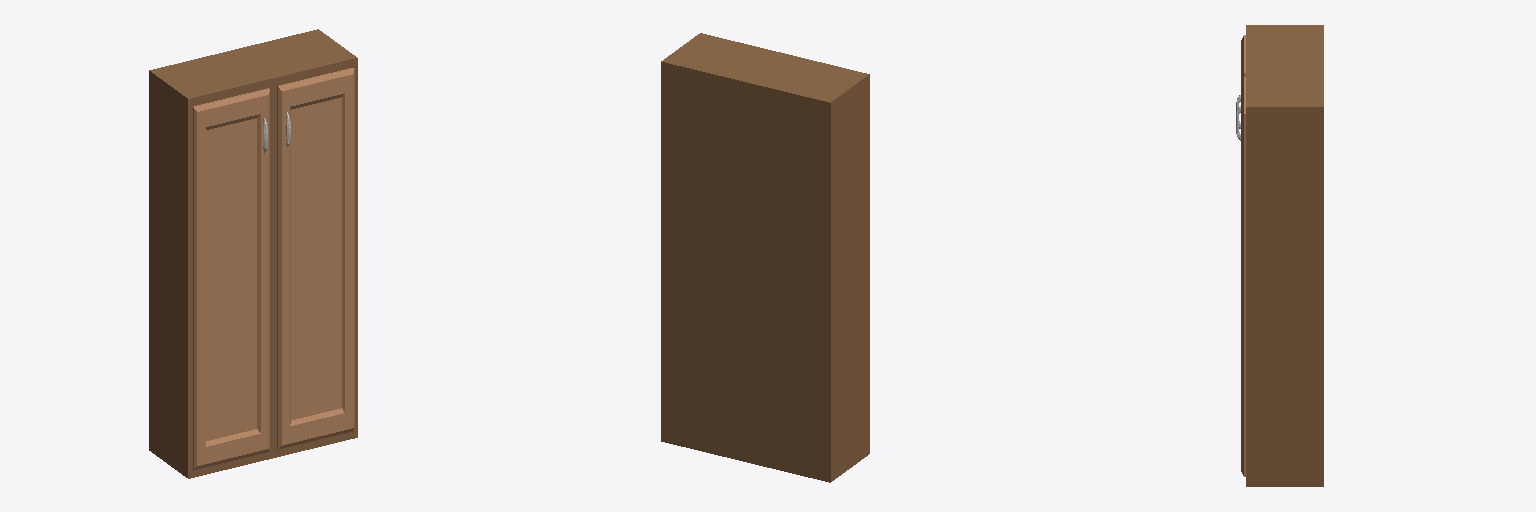
The model's file is Cabernat.obj.
3 views of the same model, side by side, from view 1: azimuth 30°, elevation 25°; view 2: azimuth 150°, elevation 25°; view 3: azimuth 270°, elevation 25° (orthographic).
Visible parts, largest first — view 1: mergedBlocks; view 2: mergedBlocks; view 3: mergedBlocks.
Part boxes in pixels (bbox=[...]): mergedBlocks: bbox=[149, 29, 357, 478]; mergedBlocks: bbox=[661, 33, 869, 482]; mergedBlocks: bbox=[1236, 25, 1323, 486].
Bounding box in the file's own units: 1 × 2.15 × 0.4531.